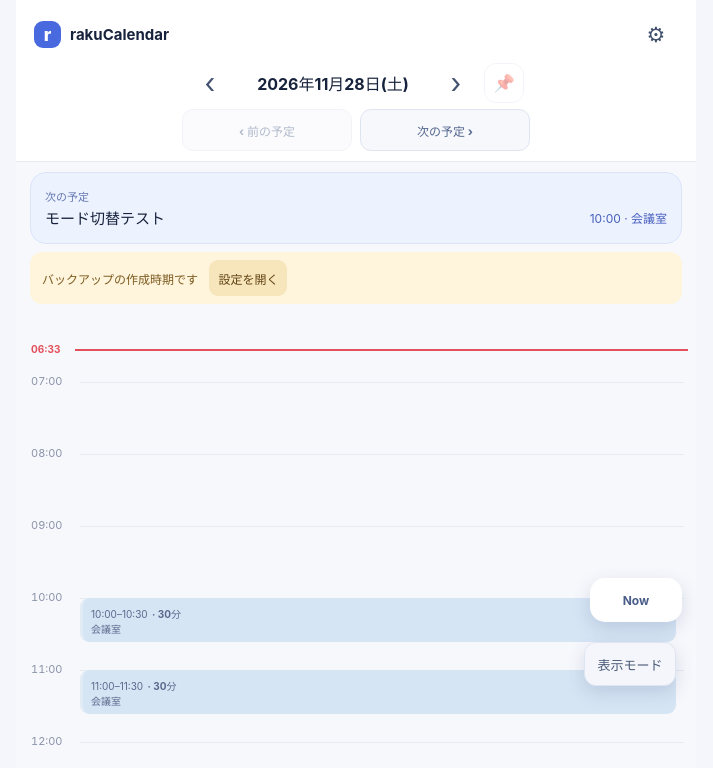
Test: calendar viewing and editing modes › navigates to the previous or next day that has appointments
(page scrolled)
Step 1. Click the button with aria-label "次の予定" → coordinates (445, 130), box [360,109,530,151]
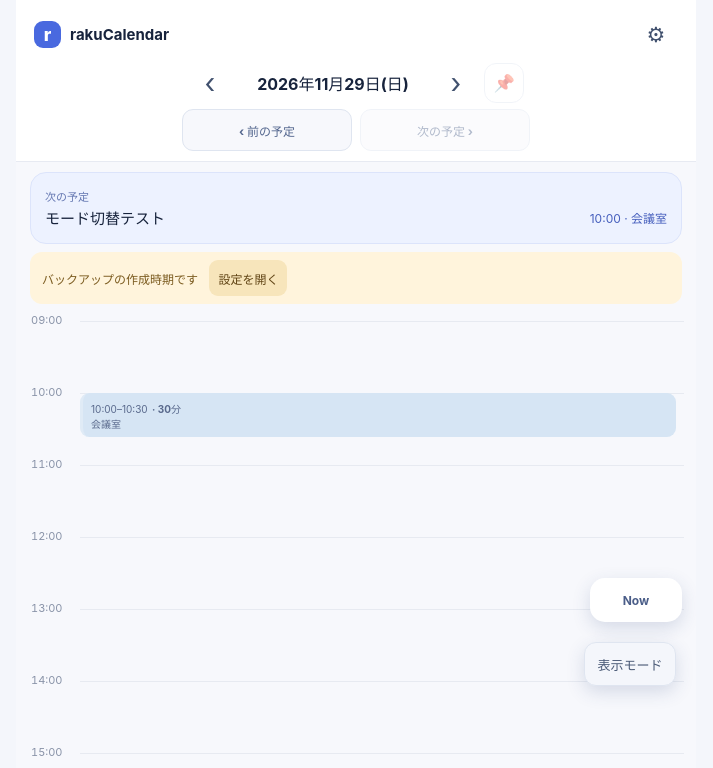
Step 2. Click the button with aria-label "前の予定" → coordinates (267, 130), box [182,109,352,151]
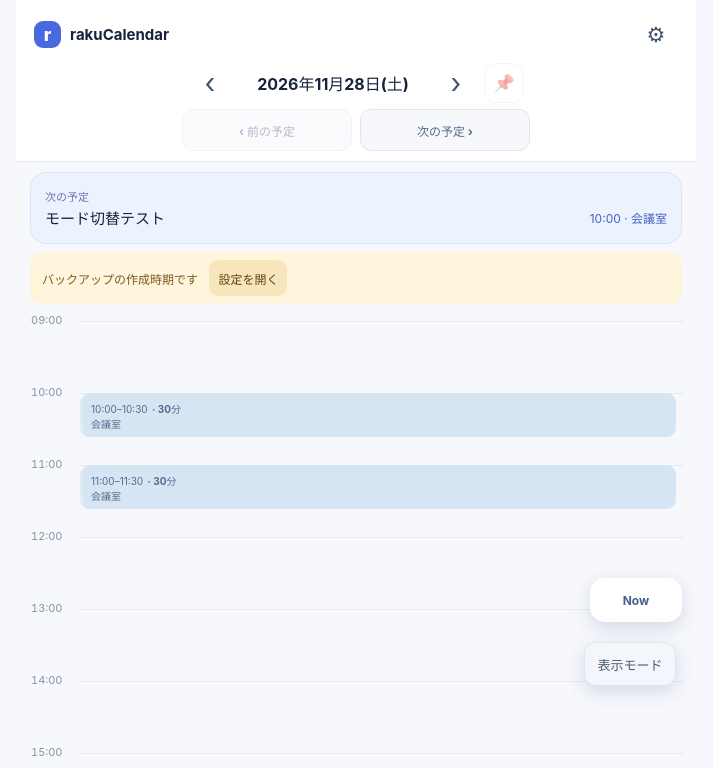
Result: the button with aria-label "前の予定" is disabled at [182,109,352,151]
